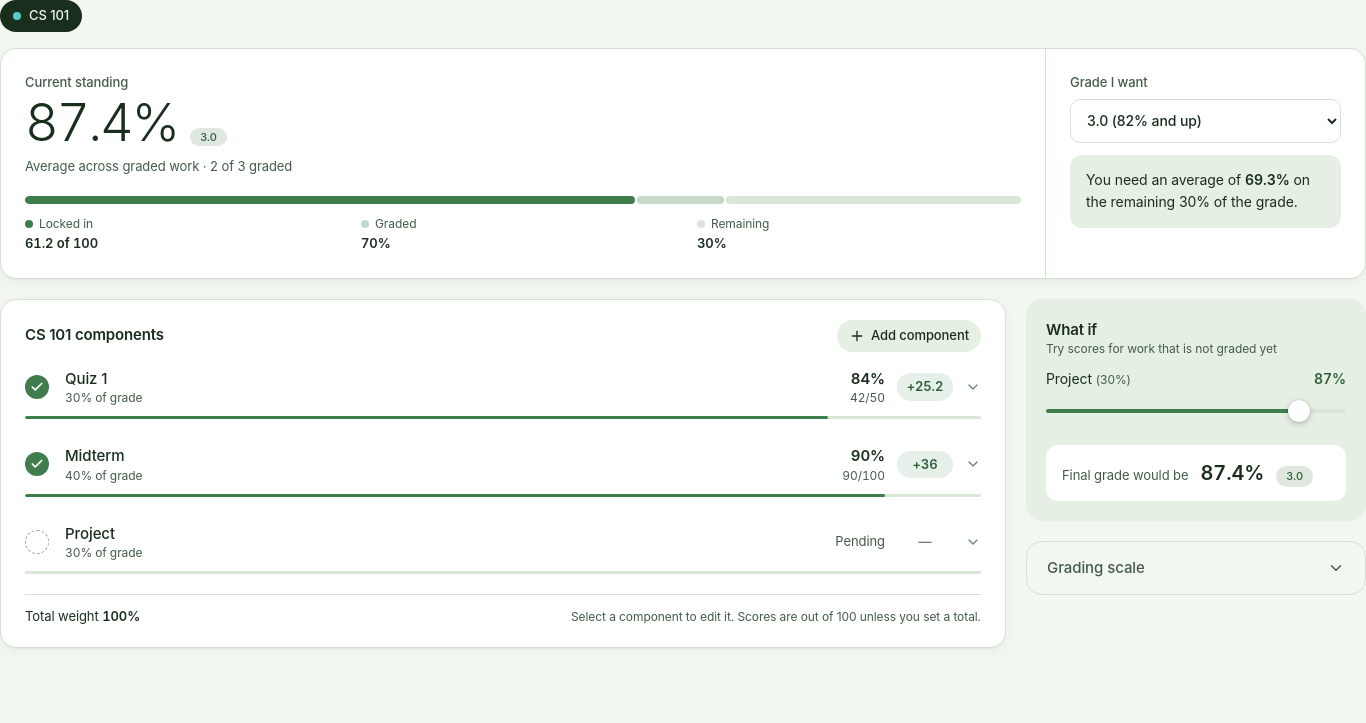
Test: points-based grade entry › shows results first, and opens one component at a time for editing
Expected: the field labelled "Points earned" is not shown
Click the button "Quiz 1 30% of grade 84% 42/50 +25.2" at x=86, y=378, box 13,356 -> 993,431
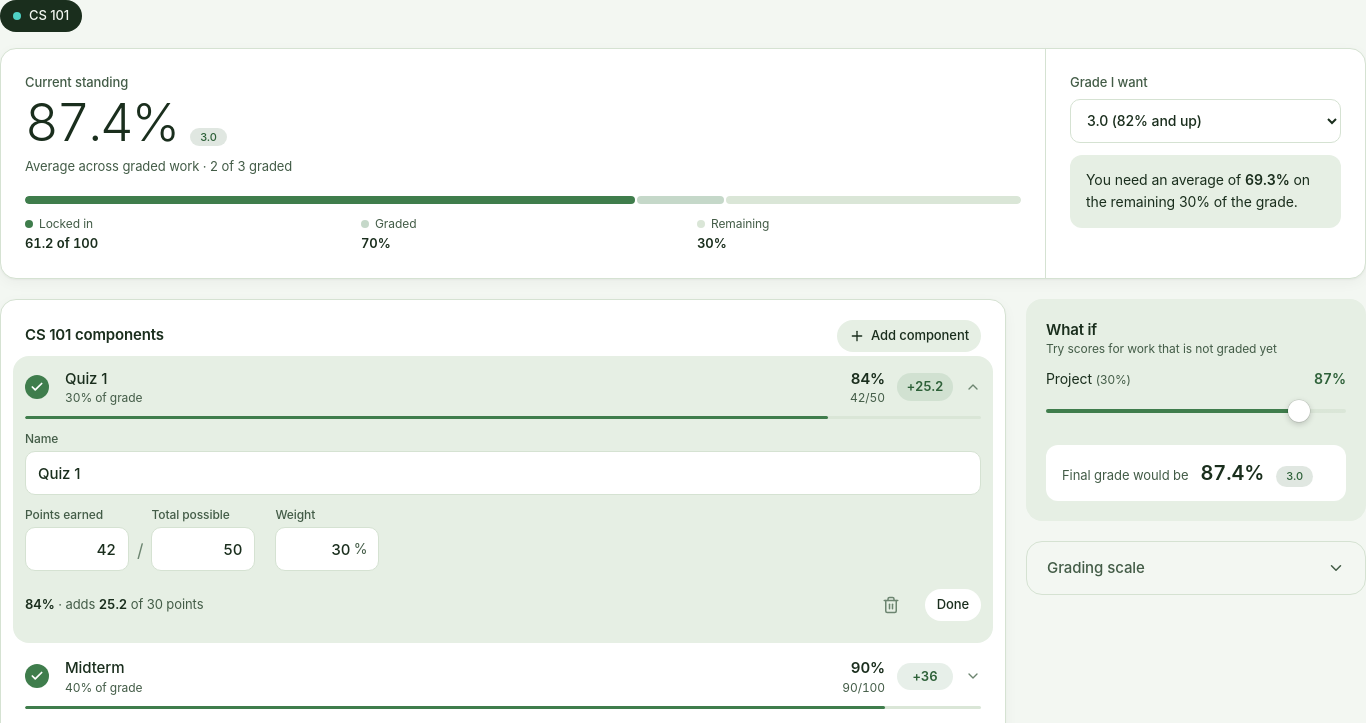
Result: the field named "Points earned for Quiz 1" holds "42" at 25,527 -> 129,571
Note: Opening another closes the first.
Click the button "Midterm 40% of grade 90% 90/100 +36" at x=95, y=668, box 13,645 -> 993,720
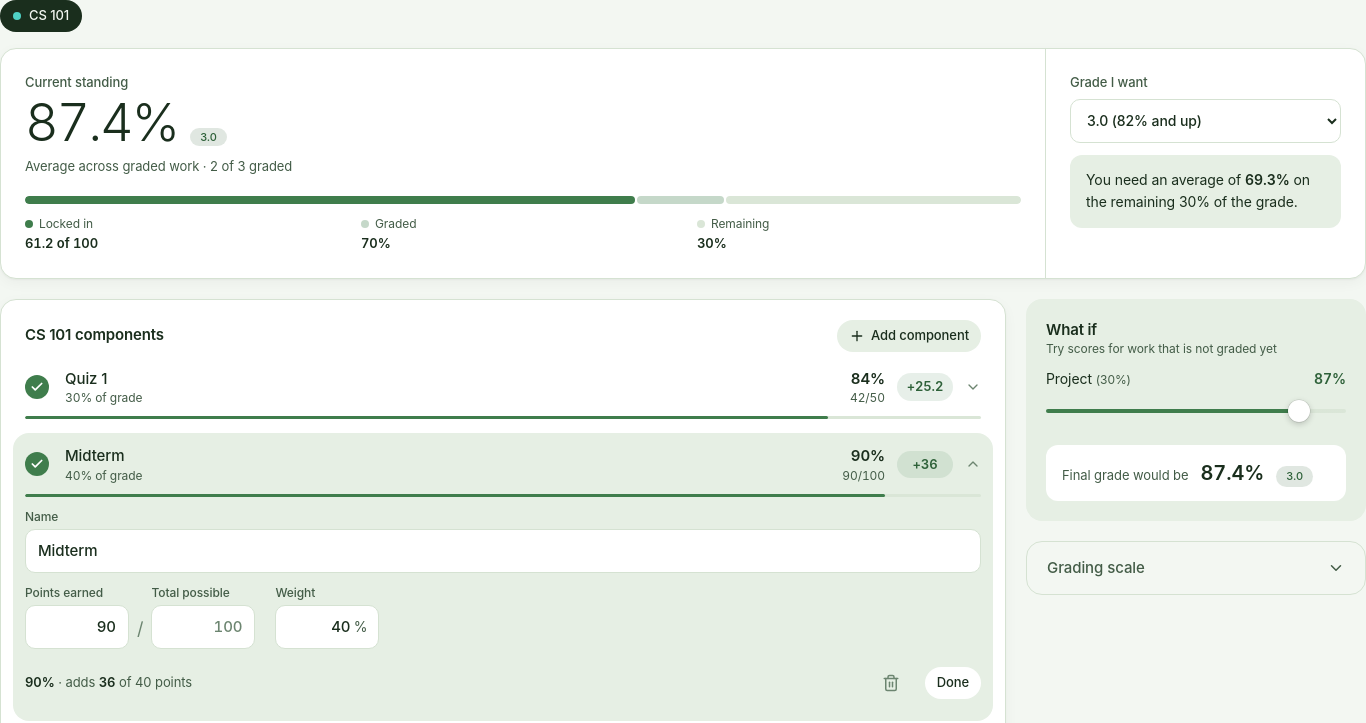
Result: the field named "Points earned for Midterm" is shown at 25,604 -> 129,648
